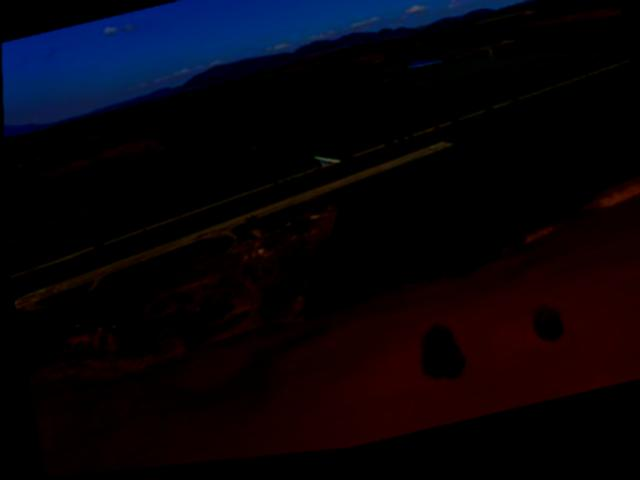uav: (308, 149, 347, 187)
